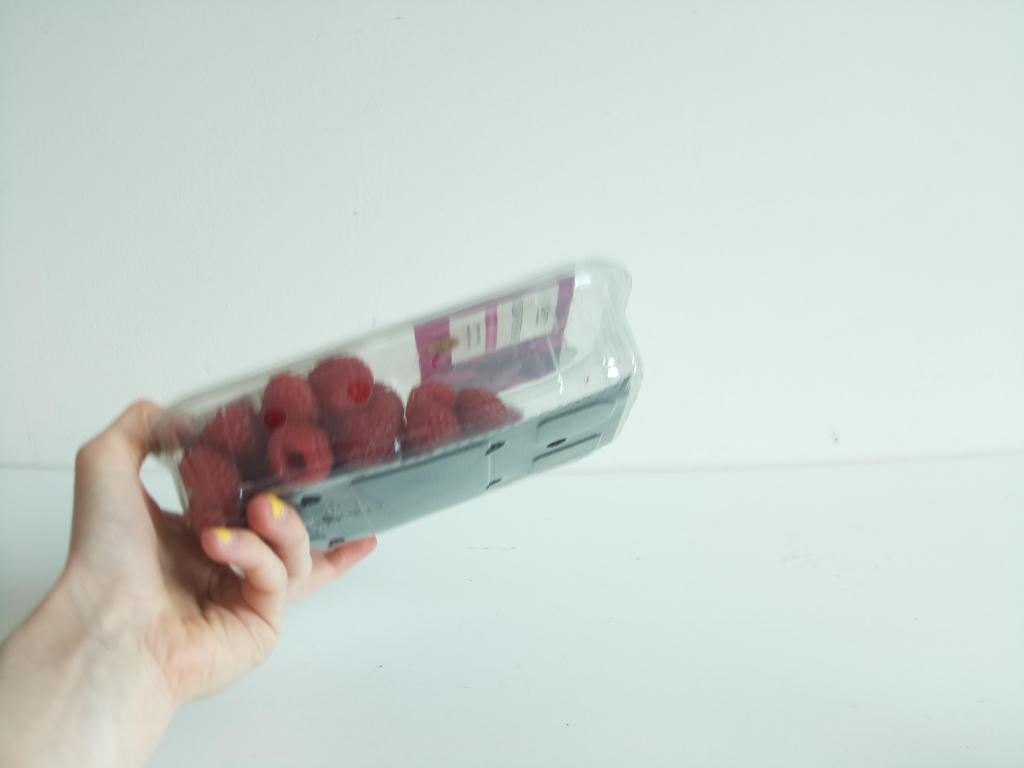soft-fruit: (156, 263, 642, 589)
